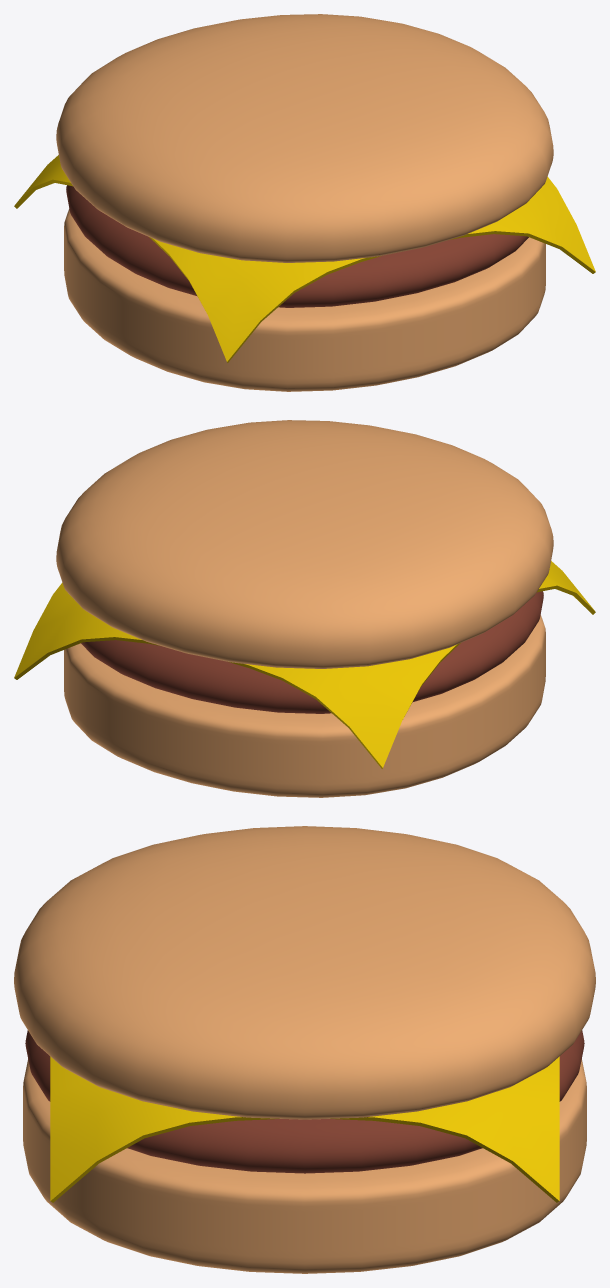
The model's file is hamburger.glb.
3 views of the same model, one above another, from view 1: azimuth 30°, elevation 25°; view 2: azimuth 150°, elevation 25°; view 3: azimuth 270°, elevation 25° (orthographic). The views are drawn at different scales.
Visible parts, largest first — view 1: Bottom bun.001, Bottom bun, Plane, Cutlet; view 2: Bottom bun.001, Bottom bun, Plane, Cutlet; view 3: Bottom bun.001, Bottom bun, Plane, Cutlet.
Part boxes in pixels (x1,y1,x2,y2): Bottom bun.001: (56, 14, 553, 262); Bottom bun: (64, 209, 545, 391); Plane: (14, 155, 595, 362); Cutlet: (66, 185, 528, 307); Bottom bun.001: (56, 420, 553, 668); Bottom bun: (64, 615, 545, 797); Plane: (14, 561, 595, 768); Cutlet: (81, 591, 543, 713); Bottom bun.001: (14, 826, 595, 1119); Bottom bun: (23, 1059, 586, 1273); Plane: (50, 1056, 559, 1202); Cutlet: (25, 1030, 584, 1173).
Bounding box in the file's own units: 9.46 × 4.86 × 9.46.
